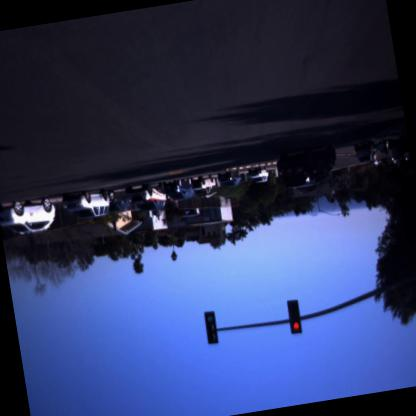trafficlight: (284, 298, 304, 337), (202, 308, 220, 348)
